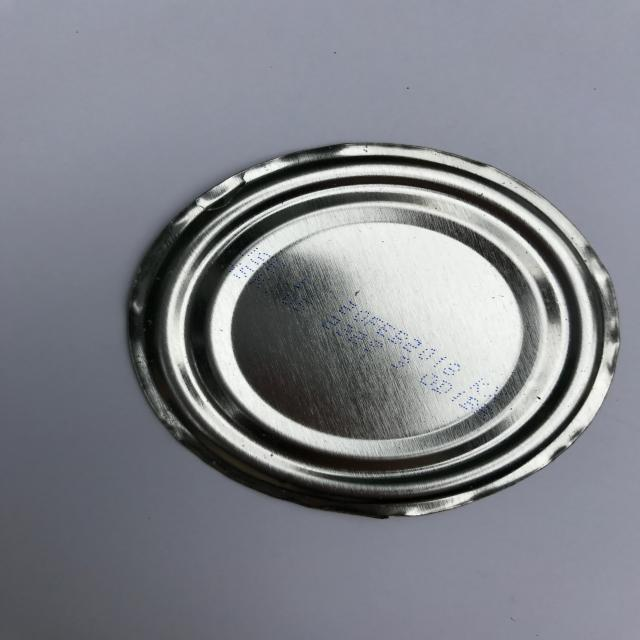metal: (124, 140, 624, 519)
